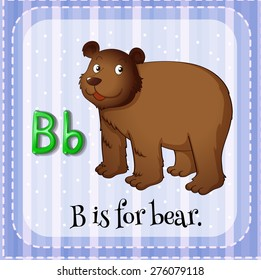animal: (80, 38, 232, 197)
